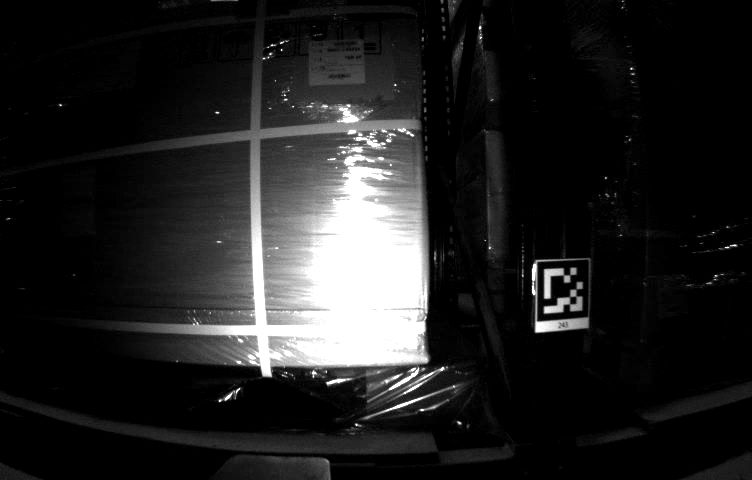True Barcode: (309, 40, 370, 86)
